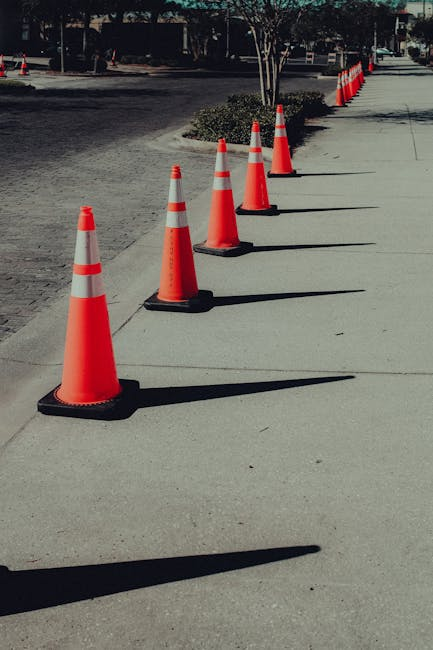traffic_cone: (37, 204, 137, 420), (143, 164, 214, 313), (193, 137, 253, 257), (235, 120, 280, 216), (266, 104, 301, 178), (334, 73, 347, 107), (341, 70, 353, 102), (18, 53, 30, 76), (357, 61, 366, 84), (0, 54, 8, 77), (367, 56, 374, 72), (111, 49, 117, 66)
